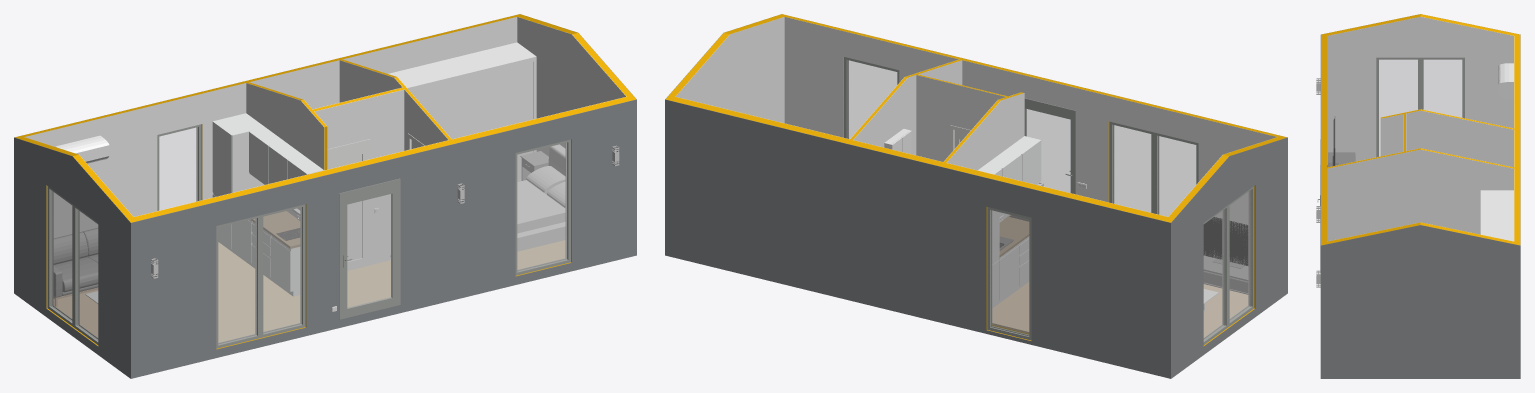
File: Juzef Malevski_(3,6x9,0m)_R00.fbx
3 renders of one model, left to right at view 1: azimuth 30°, elevation 25°; view 2: azimuth 150°, elevation 25°; view 3: azimuth 270°, elevation 25°, orthographic. The views are drawn at different scales.
Visible parts, largest first — view 1: IfcWall/Part:2370825, IfcWall/Part:2370830, IfcWindow/Aluprof_MB-86-SI_E_Alu_Window-1sash-FIX_ENG_R-000. (×4), IfcWall/Part:2370858, IfcFurnishingElement/Cabinet_-_Storage:3100 x 500 x 2100mm:2, IfcSlab/Part:2370833, IfcDoor/Simple_vitree_-_03:1000x2100:2370780, IfcWindow/Aluprof_MB-86-SI_E_Alu_Window-1sash-FIX_ENG_R-0004, IfcWall/Part:2370827, IfcWindow/Aluprof_MB-86-SI_E_Alu_Window-1sash-FIX_ENG_R-000, IfcWall/Part:2370821, IfcFurnishingElement/Cama - 3D - Genérico - Modelo Helsinki: (+19 smaller); view 2: IfcWall/Part:2370831, IfcWall/Part:2370824, IfcWindow/Aluprof_MB-86-SI_E_Alu_Window-1sash-FIX_ENG_R-000. (×4), IfcWall/Part:2370858, IfcWall/Part:2370827, IfcWall/Part:2370822, IfcDoor/Simple_vitree_-_03:1000x2100:2370780, IfcWall/Part:2370832, IfcWindow/Aluprof_MB-86-SI_E_Alu_Window-1sash-FIX_ENG_R-000, IfcWall/Part:2370841, IfcWindow/Aluprof_MB-86-SI_E_Alu_Window-1sash-FIX_ENG_R-0004, IfcSlab/Part:2370833 (+10 smaller); view 3: IfcWall/Part:2370828, IfcWall/Part:2370857, IfcWall/Part:2370818, IfcWindow/Aluprof_MB-86-SI_E_Alu_Window-1sash-FIX_ENG_R-000. (×2), IfcWall/Part:2418770, IfcDoor/Simple_vitree_-_03:800x2100mm:2370847, IfcFurnishingElement/Cabinet_-_Storage:3100 x 500 x 2100mm:2, IfcWall/Part:2370832, IfcWall/Part:2370826, IfcWall/Part:2370840, IfcWall/Part:2370829, IfcWall/Part:2370859 (+8 smaller).
Part boxes in pixels (x1=…): IfcWall/Part:2370825: x1=130, y1=99, x2=636, y2=378; IfcWall/Part:2370830: x1=25, y1=17, x2=517, y2=238; IfcWindow/Aluprof_MB-86-SI_E_Alu_Window-1sash-FIX_ENG_R-000. (×4): x1=47, y1=124, x2=305, y2=344; IfcWall/Part:2370858: x1=14, y1=137, x2=130, y2=378; IfcFurnishingElement/Cabinet_-_Storage:3100 x 500 x 2100mm:2: x1=388, y1=42, x2=536, y2=181; IfcSlab/Part:2370833: x1=53, y1=240, x2=565, y2=342; IfcDoor/Simple_vitree_-_03:1000x2100:2370780: x1=339, y1=178, x2=400, y2=319; IfcWindow/Aluprof_MB-86-SI_E_Alu_Window-1sash-FIX_ENG_R-0004: x1=515, y1=139, x2=570, y2=275; IfcWall/Part:2370827: x1=517, y1=17, x2=626, y2=156; IfcWindow/Aluprof_MB-86-SI_E_Alu_Window-1sash-FIX_ENG_R-000: x1=216, y1=215, x2=261, y2=348; IfcWall/Part:2370821: x1=314, y1=89, x2=404, y2=264; IfcFurnishingElement/Cama - 3D - Genérico - Modelo Helsinki:: x1=517, y1=144, x2=565, y2=251; IfcWall/Part:2370831: x1=665, y1=99, x2=1171, y2=378; IfcWall/Part:2370824: x1=784, y1=17, x2=1276, y2=224; IfcWindow/Aluprof_MB-86-SI_E_Alu_Window-1sash-FIX_ENG_R-000. (×4): x1=987, y1=121, x2=1254, y2=344; IfcWall/Part:2370858: x1=1171, y1=137, x2=1287, y2=378; IfcWall/Part:2370827: x1=676, y1=17, x2=784, y2=123; IfcWall/Part:2370822: x1=916, y1=75, x2=1005, y2=161; IfcDoor/Simple_vitree_-_03:1000x2100:2370780: x1=1024, y1=98, x2=1075, y2=194; IfcWall/Part:2370832: x1=665, y1=95, x2=1173, y2=340; IfcWindow/Aluprof_MB-86-SI_E_Alu_Window-1sash-FIX_ENG_R-000: x1=1153, y1=132, x2=1198, y2=216; IfcWall/Part:2370841: x1=946, y1=93, x2=1024, y2=218; IfcWindow/Aluprof_MB-86-SI_E_Alu_Window-1sash-FIX_ENG_R-0004: x1=844, y1=57, x2=899, y2=138; IfcSlab/Part:2370833: x1=992, y1=282, x2=1248, y2=337; IfcWall/Part:2370828: x1=1320, y1=225, x2=1520, y2=378; IfcWall/Part:2370857: x1=1327, y1=16, x2=1513, y2=161; IfcWall/Part:2370818: x1=1327, y1=149, x2=1513, y2=241; IfcWindow/Aluprof_MB-86-SI_E_Alu_Window-1sash-FIX_ENG_R-000. (×2): x1=1376, y1=57, x2=1464, y2=157; IfcWall/Part:2418770: x1=1406, y1=110, x2=1513, y2=167; IfcDoor/Simple_vitree_-_03:800x2100mm:2370847: x1=1347, y1=188, x2=1396, y2=237; IfcFurnishingElement/Cabinet_-_Storage:3100 x 500 x 2100mm:2: x1=1480, y1=190, x2=1513, y2=241; IfcWall/Part:2370832: x1=1514, y1=33, x2=1520, y2=245; IfcWall/Part:2370826: x1=1321, y1=33, x2=1327, y2=242; IfcWall/Part:2370840: x1=1380, y1=114, x2=1402, y2=156; IfcWall/Part:2370829: x1=1321, y1=222, x2=1514, y2=245; IfcWall/Part:2370859: x1=1327, y1=14, x2=1514, y2=35.
Size of the model in its own units: 900 by 306 by 368.
